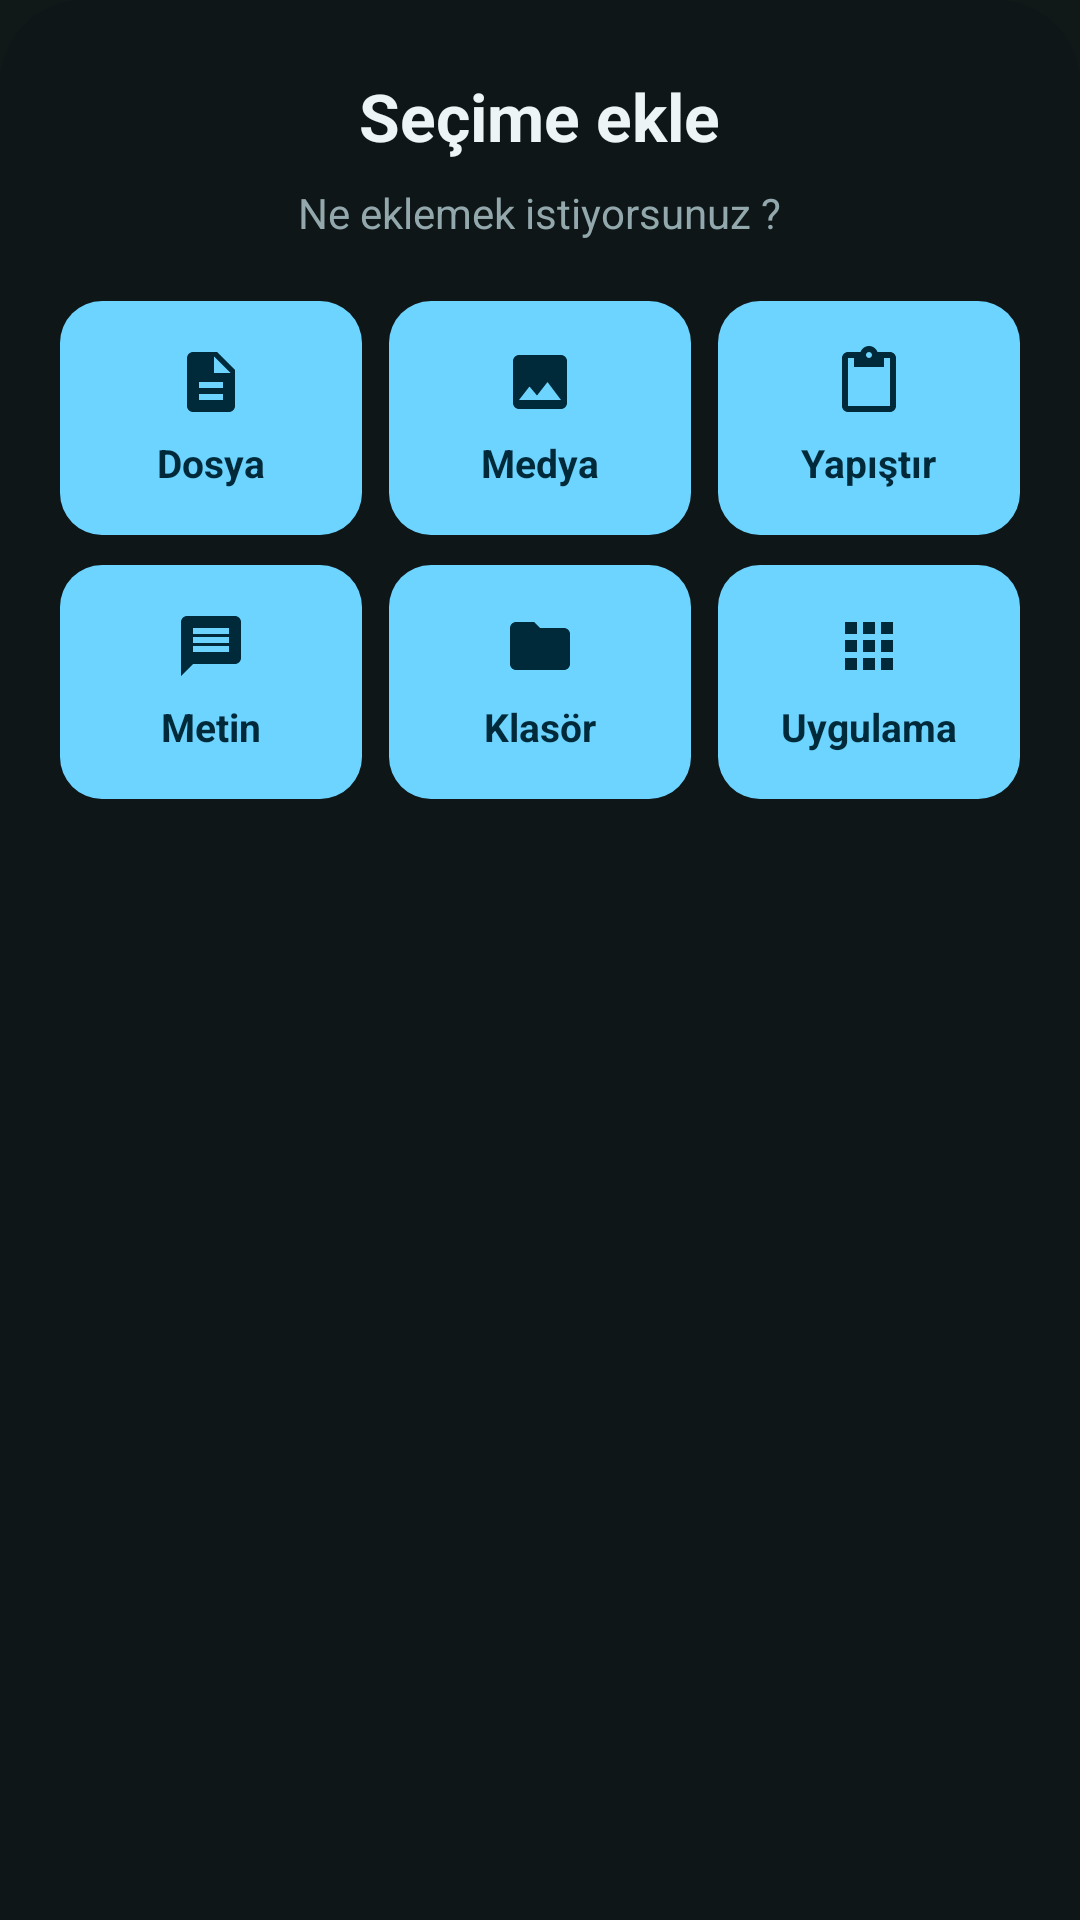

Where icons sit on this 1080px x 1920px app screen, as (x1,y1,x2,y2):
apps grid: (845,622,893,670)
